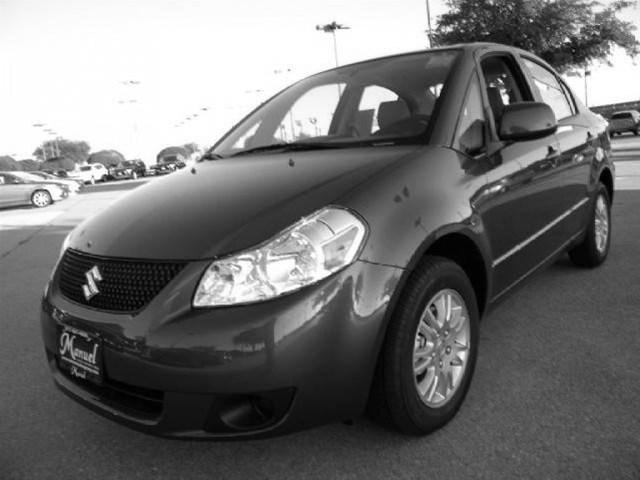car: (41, 43, 618, 444)
